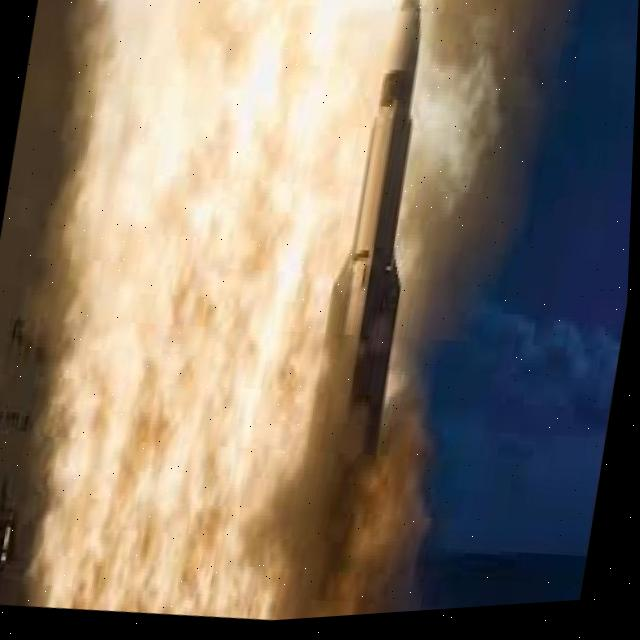missile: (305, 0, 452, 478)
